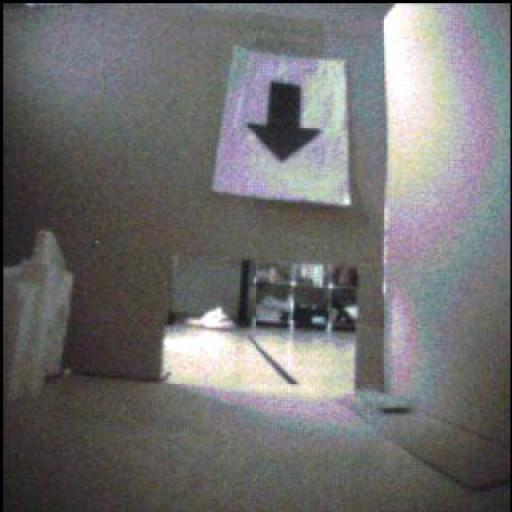arrow: (249, 83, 321, 163)
